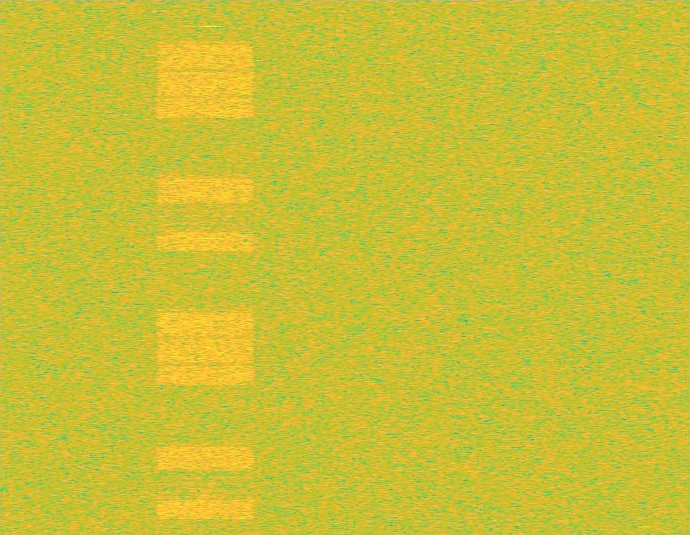LTE: (154, 0, 257, 534)
Radar: (204, 0, 218, 534)
